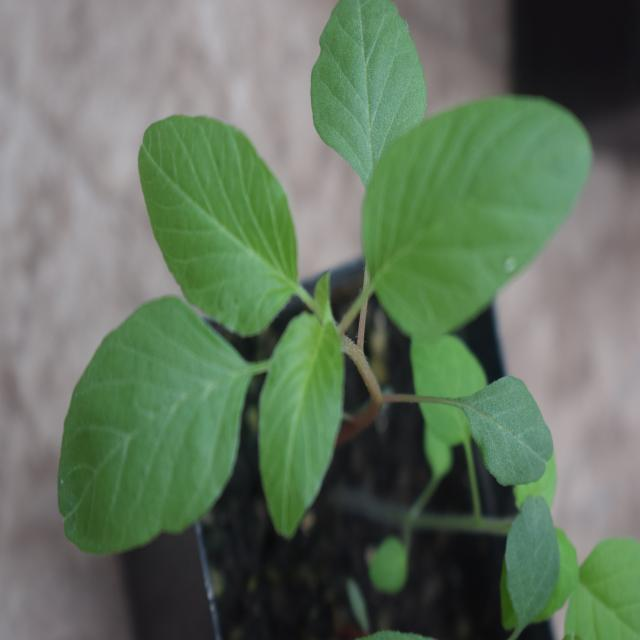pigweed: (32, 14, 592, 524)
